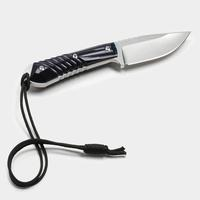knife: (20, 27, 196, 94)
